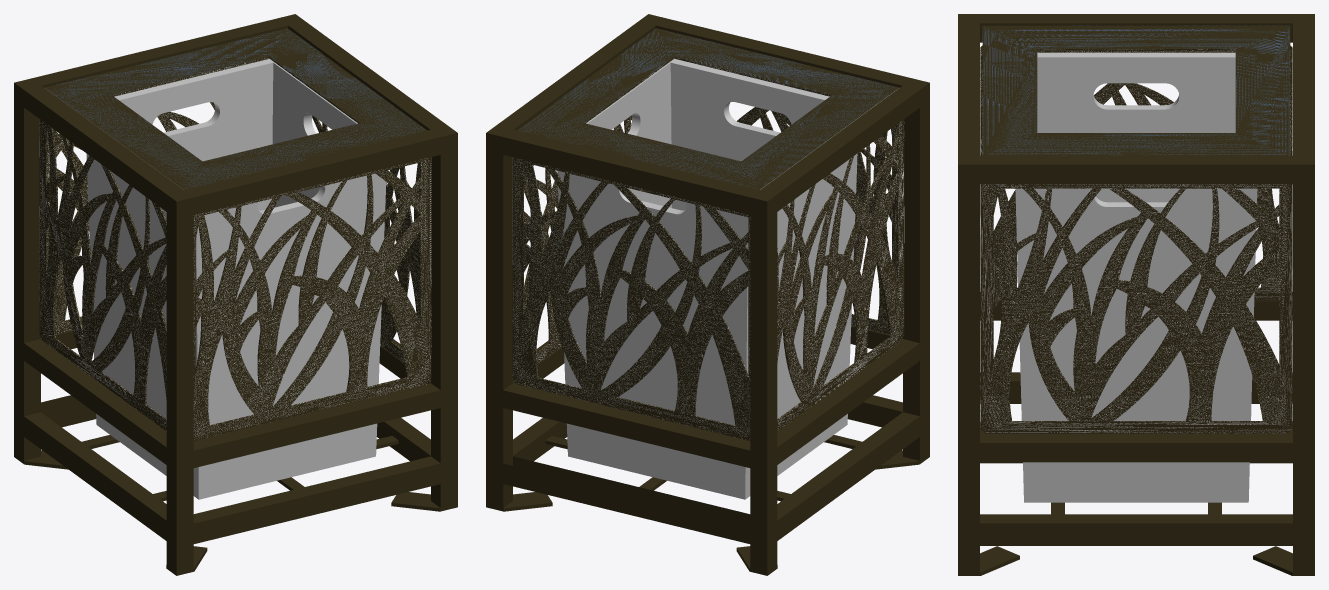
3 views of the same model, side by side, from view 1: azimuth 30°, elevation 25°; view 2: azimuth 150°, elevation 25°; view 3: azimuth 270°, elevation 25° (orthographic). The views are drawn at different scales.
Visible parts, largest first — view 1: mesh53_mesh53-geometry, mesh4_mesh4-geometry, mesh7_mesh7-geometry, mesh49_mesh49-geometry, mesh3_mesh3-geometry, mesh20_mesh20-geometry, mesh27_mesh27-geometry, mesh10_mesh10-geometry, mesh5_mesh5-geometry, mesh1_mesh1-geometry, mesh2_mesh2-geometry, mesh14_mesh14-geometry (+1 smaller); view 2: mesh53_mesh53-geometry, mesh2_mesh2-geometry, mesh10_mesh10-geometry, mesh20_mesh20-geometry, mesh49_mesh49-geometry, mesh3_mesh3-geometry, mesh27_mesh27-geometry, mesh5_mesh5-geometry, mesh7_mesh7-geometry, mesh4_mesh4-geometry, mesh1_mesh1-geometry, mesh12_mesh12-geometry (+1 smaller); view 3: mesh53_mesh53-geometry, mesh1_mesh1-geometry, mesh5_mesh5-geometry, mesh49_mesh49-geometry, mesh27_mesh27-geometry, mesh10_mesh10-geometry, mesh7_mesh7-geometry, mesh20_mesh20-geometry, mesh3_mesh3-geometry, mesh12_mesh12-geometry, mesh14_mesh14-geometry.
Part boxes in pixels (bbox=[...]): mesh53_mesh53-geometry: bbox=[86, 59, 386, 499]; mesh4_mesh4-geometry: bbox=[193, 157, 431, 440]; mesh7_mesh7-geometry: bbox=[166, 125, 457, 572]; mesh49_mesh49-geometry: bbox=[44, 28, 426, 189]; mesh3_mesh3-geometry: bbox=[39, 119, 166, 431]; mesh20_mesh20-geometry: bbox=[14, 83, 193, 571]; mesh27_mesh27-geometry: bbox=[24, 395, 440, 543]; mesh10_mesh10-geometry: bbox=[14, 14, 304, 460]; mesh5_mesh5-geometry: bbox=[278, 14, 457, 507]; mesh1_mesh1-geometry: bbox=[312, 115, 419, 362]; mesh2_mesh2-geometry: bbox=[47, 58, 268, 334]; mesh14_mesh14-geometry: bbox=[391, 492, 457, 511]; mesh53_mesh53-geometry: bbox=[557, 58, 857, 499]; mesh2_mesh2-geometry: bbox=[512, 157, 750, 440]; mesh10_mesh10-geometry: bbox=[486, 125, 777, 572]; mesh20_mesh20-geometry: bbox=[750, 82, 929, 572]; mesh49_mesh49-geometry: bbox=[517, 28, 899, 189]; mesh3_mesh3-geometry: bbox=[777, 119, 904, 431]; mesh27_mesh27-geometry: bbox=[503, 395, 919, 543]; mesh5_mesh5-geometry: bbox=[486, 14, 665, 507]; mesh7_mesh7-geometry: bbox=[640, 15, 929, 460]; mesh4_mesh4-geometry: bbox=[675, 58, 896, 334]; mesh1_mesh1-geometry: bbox=[524, 115, 631, 364]; mesh12_mesh12-geometry: bbox=[486, 492, 552, 511]; mesh53_mesh53-geometry: bbox=[1015, 52, 1257, 502]; mesh1_mesh1-geometry: bbox=[980, 184, 1292, 433]; mesh5_mesh5-geometry: bbox=[958, 155, 1314, 572]; mesh49_mesh49-geometry: bbox=[982, 25, 1290, 155]; mesh27_mesh27-geometry: bbox=[980, 372, 1292, 545]; mesh10_mesh10-geometry: bbox=[1293, 14, 1314, 572]; mesh7_mesh7-geometry: bbox=[958, 14, 979, 572]; mesh20_mesh20-geometry: bbox=[958, 14, 1314, 320]; mesh3_mesh3-geometry: bbox=[980, 45, 1292, 300]; mesh12_mesh12-geometry: bbox=[1253, 546, 1314, 575]; mesh14_mesh14-geometry: bbox=[958, 546, 1019, 575].
Bounding box in the file's own units: 0.5258 × 0.6686 × 0.5258.
